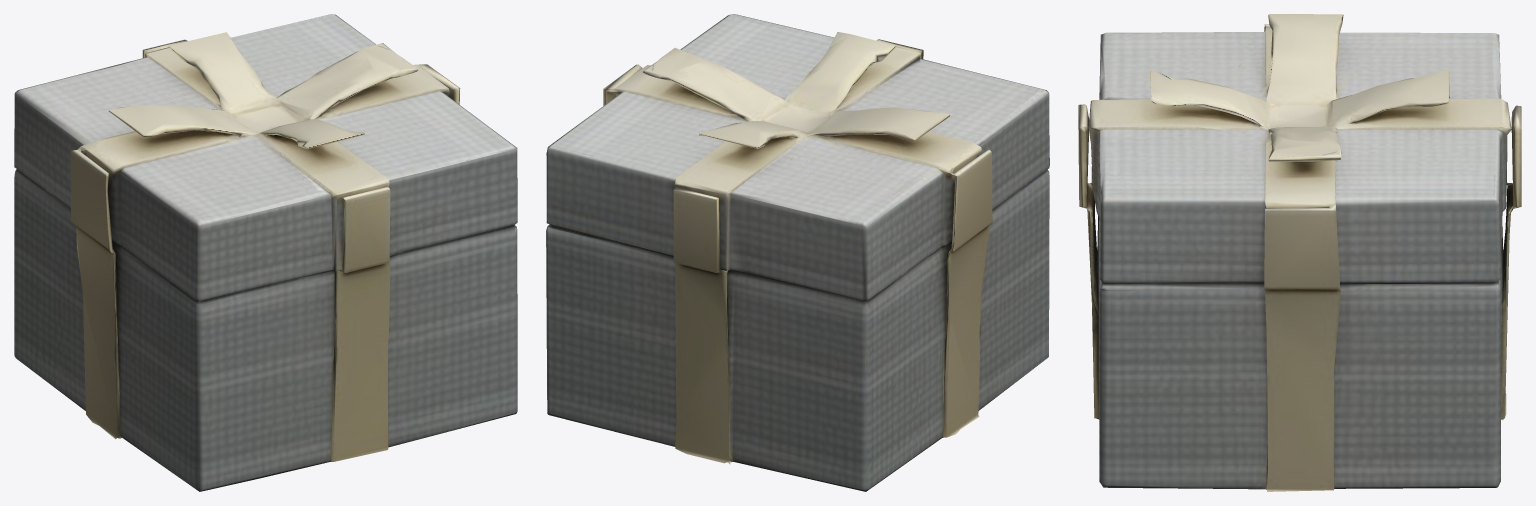
Rendered from gift_box.glb.
3 renders of one model, left to right at view 1: azimuth 30°, elevation 25°; view 2: azimuth 150°, elevation 25°; view 3: azimuth 270°, elevation 25°, orthographic. The views are drawn at different scales.
Parts seen in each view (by area): view 1: gift_box; view 2: gift_box; view 3: gift_box.
Part boxes in pixels (x1,y1,x2,y2): gift_box: (14, 14, 517, 491); gift_box: (546, 14, 1049, 491); gift_box: (1078, 14, 1521, 491).
Bounding box in the file's own units: 0.9958 × 0.7993 × 0.9954.
Materials: 1 (1 with a texture image).
